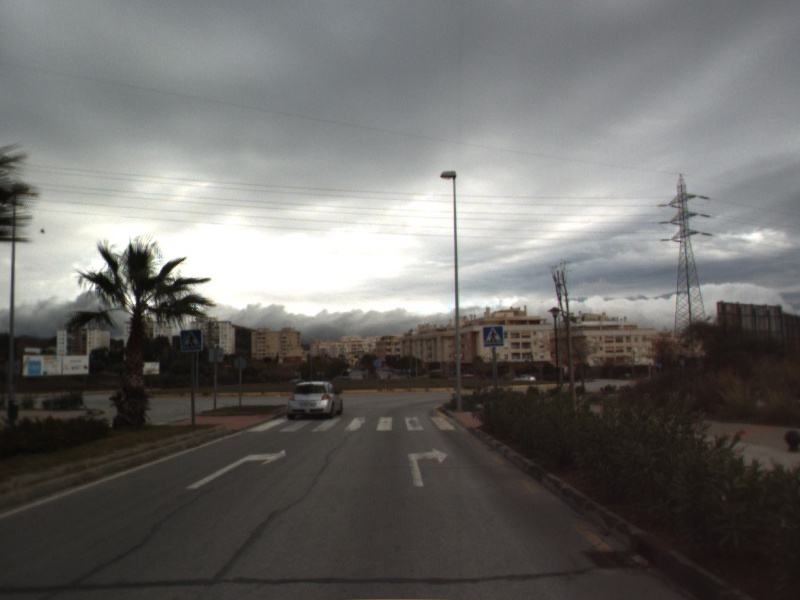RIGHT: (183, 447, 288, 491), (406, 446, 449, 488)
